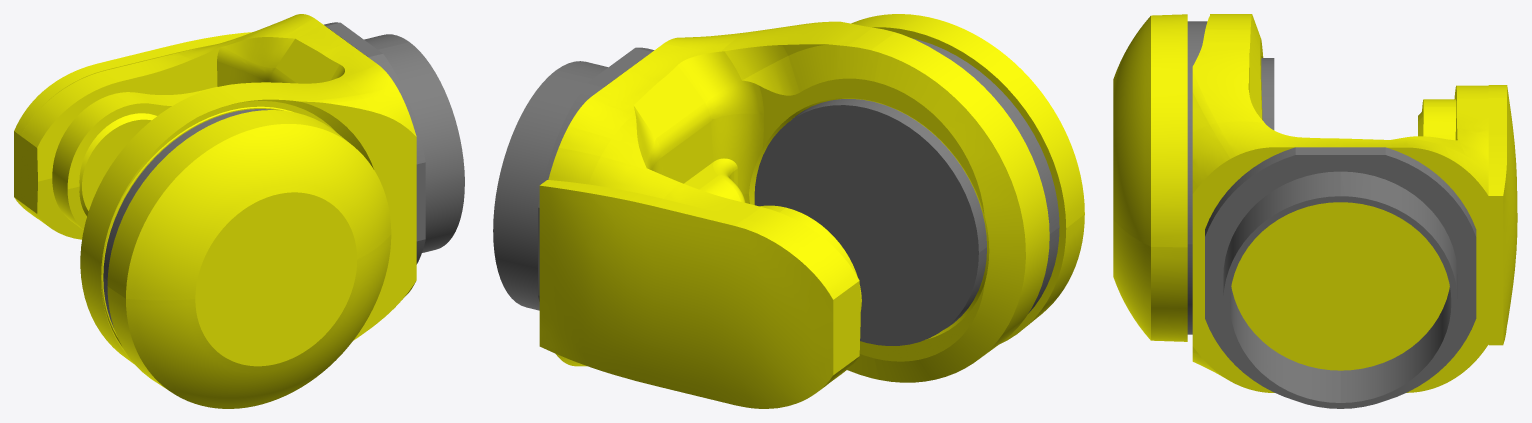
The picture shows the model from 3 angles, left to right: view 1: azimuth 30°, elevation 25°; view 2: azimuth 150°, elevation 25°; view 3: azimuth 270°, elevation 25°; orthographic projection. The views are drawn at different scales.
Visible parts, largest first — view 1: Mesh_0; view 2: Mesh_0; view 3: Mesh_0.
Boxes of the visible parts, x1=… form: Mesh_0: x1=14, y1=14, x2=464, y2=408; Mesh_0: x1=493, y1=14, x2=1084, y2=408; Mesh_0: x1=1113, y1=14, x2=1517, y2=408.
Size of the model in its own units: 0.3144 by 0.2771 by 0.2303.
